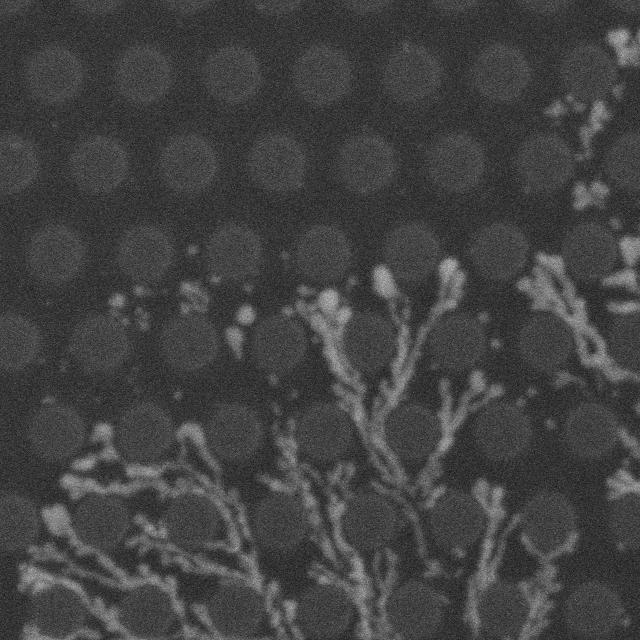Dendrite: (61, 423, 260, 586), (287, 288, 404, 485), (43, 506, 197, 635), (327, 502, 440, 640), (519, 256, 640, 380), (373, 260, 463, 406), (259, 426, 339, 567), (494, 526, 577, 640), (370, 449, 443, 576), (125, 515, 243, 579), (20, 539, 104, 618), (468, 480, 516, 595), (290, 457, 357, 521), (439, 371, 500, 437), (407, 452, 445, 511), (578, 102, 611, 158), (608, 25, 640, 67), (389, 441, 437, 465), (542, 95, 583, 122), (573, 182, 607, 211), (179, 280, 209, 312), (224, 325, 242, 358), (125, 305, 149, 329), (45, 506, 66, 531), (465, 600, 480, 633), (109, 292, 126, 321), (236, 303, 255, 325), (434, 439, 448, 458), (440, 378, 448, 399), (114, 294, 120, 306), (24, 571, 25, 574)
